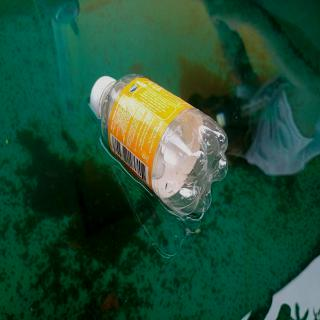bottle: (89, 72, 229, 218)
